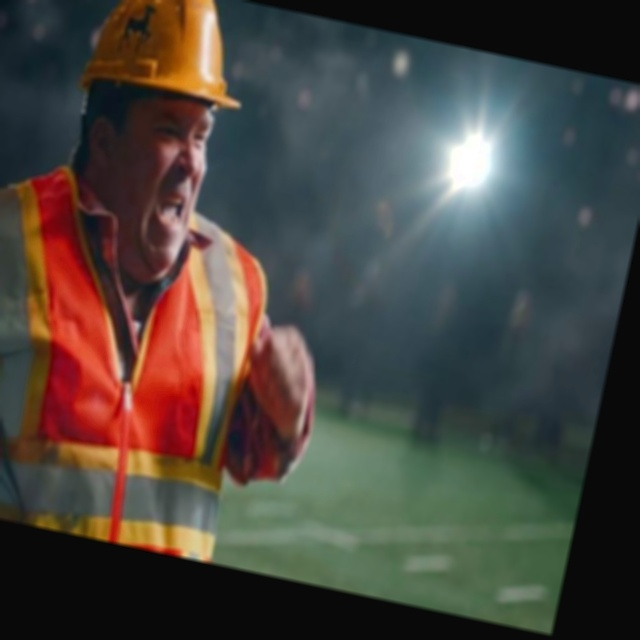Con_Casco: (65, 0, 259, 202)
Con_Chaleco: (0, 167, 258, 549)
